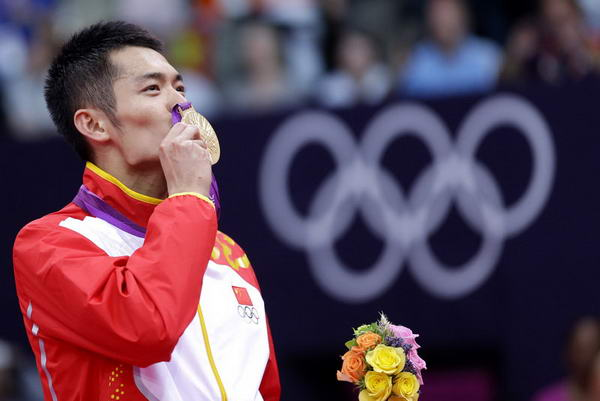face: (118, 45, 197, 163)
